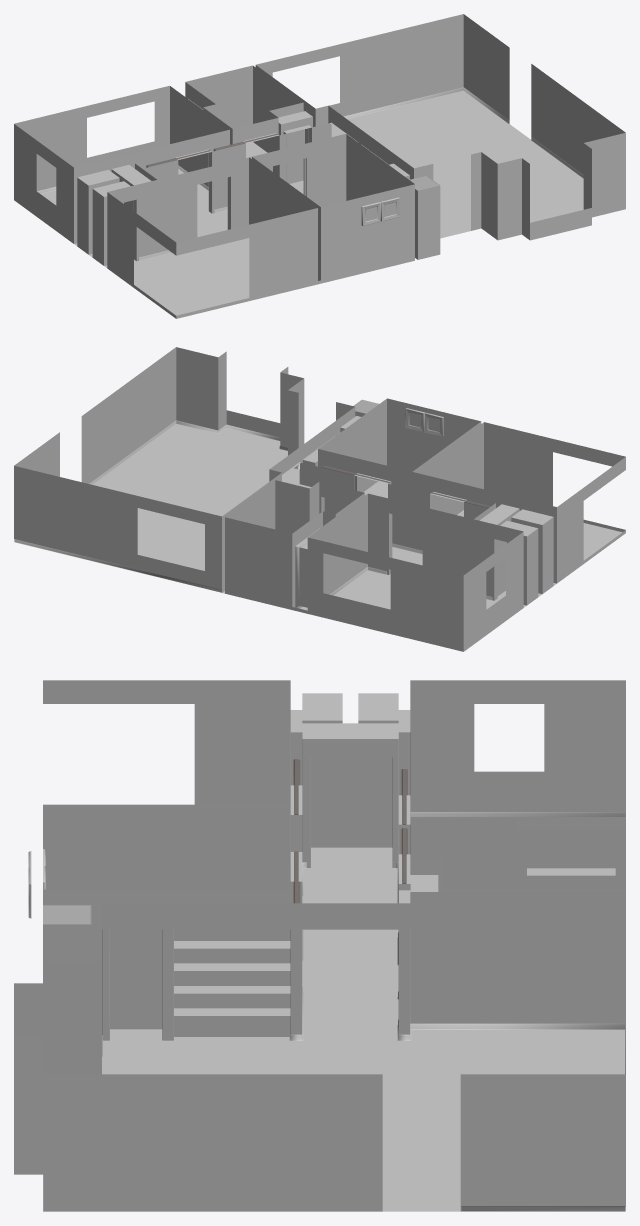
Rendered from PlayerHouse.FBX.
3 renders of one model, top to bottom at view 1: azimuth 30°, elevation 25°; view 2: azimuth 150°, elevation 25°; view 3: azimuth 270°, elevation 25°, orthographic. The views are drawn at different scales.
Parts seen in each view (by area): view 1: Intewall:14, Intewall:19, Res01PlayerHouseInterior:3, Intewall:17, Res01PlayerHouseInterior:4, Intewall:1, SquarereWin Clean, Intewall:2; view 2: Intewall:14, Intewall:19, Res01PlayerHouseInterior:3, Intewall:17, Intewall:1, Res01PlayerHouseInterior:4, SquarereWin Clean; view 3: Intewall:14, Intewall:19, Res01PlayerHouseInterior:3, Intewall:17, Intewall:1, Res01PlayerHouseInterior:4, Intewall:11, Intewall:2.
Boxes of the visible parts, bbox=[...] form: Intewall:14: bbox=[14, 41, 625, 297]; Intewall:19: bbox=[77, 14, 503, 280]; Res01PlayerHouseInterior:3: bbox=[41, 117, 616, 315]; Intewall:17: bbox=[14, 82, 625, 318]; Res01PlayerHouseInterior:4: bbox=[246, 91, 530, 166]; Intewall:1: bbox=[232, 39, 591, 237]; SquarereWin Clean: bbox=[361, 197, 399, 225]; Intewall:2: bbox=[148, 143, 439, 195]; Intewall:14: bbox=[81, 347, 625, 648]; Intewall:19: bbox=[14, 398, 552, 608]; Res01PlayerHouseInterior:3: bbox=[93, 424, 621, 609]; Intewall:17: bbox=[14, 407, 625, 651]; Intewall:1: bbox=[54, 351, 392, 565]; Res01PlayerHouseInterior:4: bbox=[14, 481, 387, 610]; SquarereWin Clean: bbox=[405, 408, 443, 436]; Intewall:14: bbox=[43, 680, 625, 1205]; Intewall:19: bbox=[43, 693, 625, 1205]; Res01PlayerHouseInterior:3: bbox=[43, 847, 624, 1211]; Intewall:17: bbox=[14, 710, 625, 1211]; Intewall:1: bbox=[14, 857, 615, 1205]; Res01PlayerHouseInterior:4: bbox=[382, 1115, 625, 1211]; Intewall:11: bbox=[293, 759, 407, 903]; Intewall:2: bbox=[43, 905, 91, 924].
Bounding box in the file's own units: 1280 × 208 × 840.
